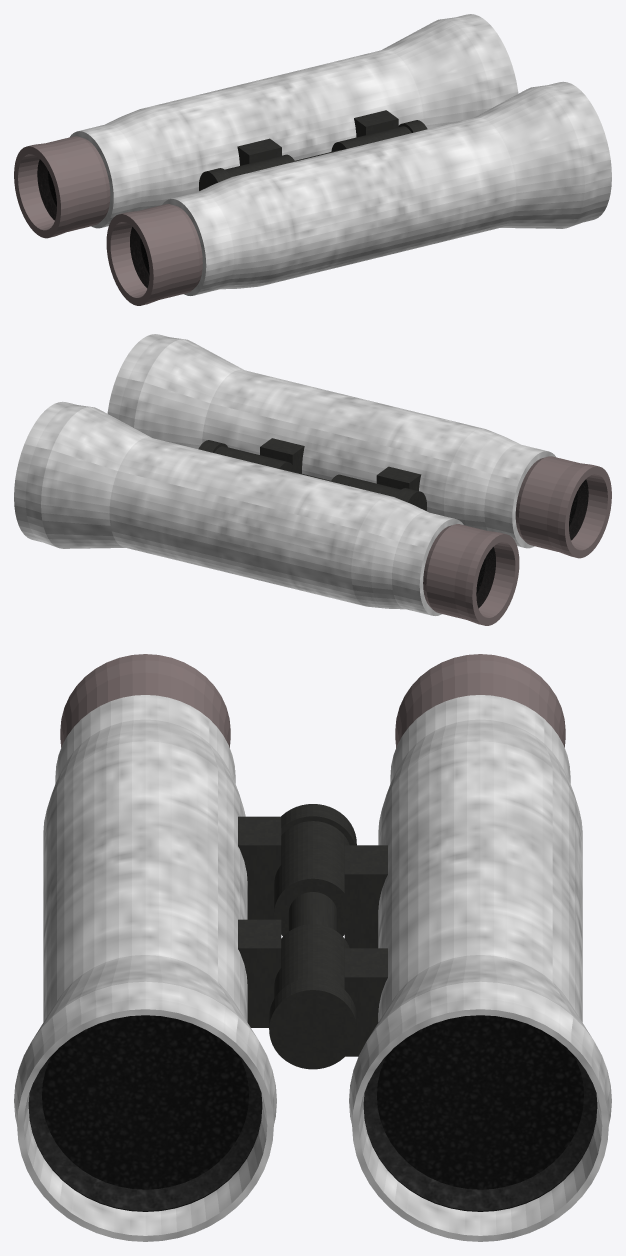
Rendered from Others_Binocular__0010.glb.
3 views of the same model, one above another, from view 1: azimuth 30°, elevation 25°; view 2: azimuth 150°, elevation 25°; view 3: azimuth 270°, elevation 25° (orthographic). The views are drawn at different scales.
Parts seen in each view (by area): view 1: right_barrel::barrel_body, left_barrel::barrel_body, right_barrel::eyecup, left_barrel::eyecup, left_barrel::front_hinge_arm, left_barrel::rear_hinge_arm, left_barrel::ocular_lens, right_barrel::ocular_lens, hinge_bridge::rear_hinge_cap, right_barrel::front_hinge_sleeve; view 2: left_barrel::barrel_body, right_barrel::barrel_body, left_barrel::eyecup, right_barrel::eyecup, right_barrel::front_hinge_arm, right_barrel::rear_hinge_arm, right_barrel::ocular_lens, left_barrel::ocular_lens, hinge_bridge::rear_hinge_cap, right_barrel::front_hinge_sleeve; view 3: right_barrel::barrel_body, left_barrel::barrel_body, left_barrel::objective_lens, right_barrel::objective_lens, left_barrel::eyecup, right_barrel::eyecup, hinge_bridge::front_hinge_cap, left_barrel::rear_hinge_arm, left_barrel::rear_hinge_sleeve, right_barrel::front_hinge_arm, right_barrel::rear_hinge_arm, left_barrel::front_hinge_arm (+5 smaller).
Part boxes in pixels (x1,y1,x2,y2): right_barrel::barrel_body: [162, 81, 611, 295]; left_barrel::barrel_body: [70, 14, 518, 228]; right_barrel::eyecup: [106, 204, 202, 305]; left_barrel::eyecup: [14, 136, 110, 238]; left_barrel::front_hinge_arm: [354, 110, 398, 137]; left_barrel::rear_hinge_arm: [237, 138, 281, 165]; left_barrel::ocular_lens: [37, 159, 56, 220]; right_barrel::ocular_lens: [130, 227, 149, 288]; hinge_bridge::rear_hinge_cap: [199, 168, 230, 190]; right_barrel::front_hinge_sleeve: [331, 134, 378, 151]; left_barrel::barrel_body: [14, 401, 463, 615]; right_barrel::barrel_body: [107, 334, 555, 548]; left_barrel::eyecup: [423, 524, 519, 625]; right_barrel::eyecup: [515, 456, 611, 558]; right_barrel::front_hinge_arm: [260, 438, 304, 473]; right_barrel::rear_hinge_arm: [376, 466, 421, 490]; right_barrel::ocular_lens: [569, 479, 588, 540]; left_barrel::ocular_lens: [476, 547, 495, 608]; hinge_bridge::rear_hinge_cap: [395, 488, 426, 510]; right_barrel::front_hinge_sleeve: [247, 454, 294, 471]; right_barrel::barrel_body: [14, 695, 276, 1241]; left_barrel::barrel_body: [349, 695, 611, 1241]; left_barrel::objective_lens: [363, 1015, 597, 1211]; right_barrel::objective_lens: [28, 1015, 262, 1211]; left_barrel::eyecup: [395, 654, 565, 747]; right_barrel::eyecup: [60, 654, 230, 747]; hinge_bridge::front_hinge_cap: [269, 977, 356, 1069]; left_barrel::rear_hinge_arm: [344, 845, 387, 948]; left_barrel::rear_hinge_sleeve: [274, 850, 351, 936]; right_barrel::front_hinge_arm: [238, 919, 281, 1027]; right_barrel::rear_hinge_arm: [238, 816, 281, 919]; left_barrel::front_hinge_arm: [344, 948, 387, 1056].
Bounding box in the file's own units: 0.1916 × 0.054 × 0.1228.
4 materials, 3 textured.
